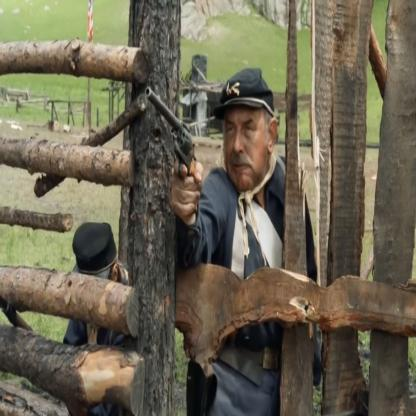gun: (144, 76, 194, 203)
